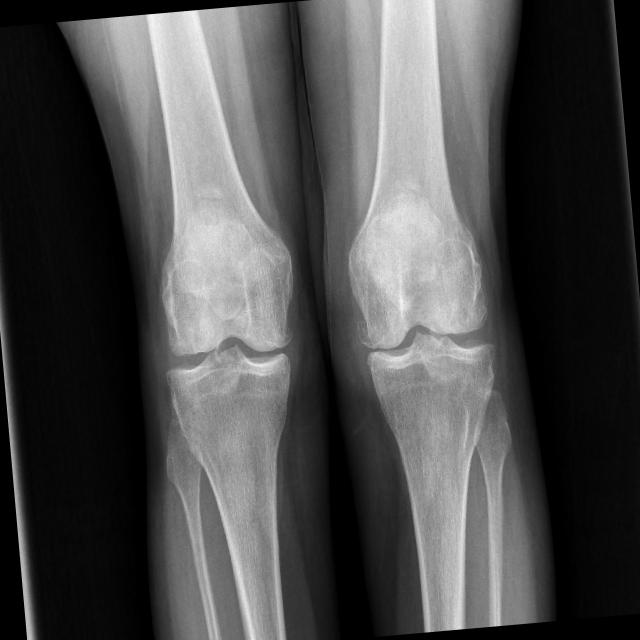Knee: (152, 277, 304, 430), (342, 272, 505, 403)
